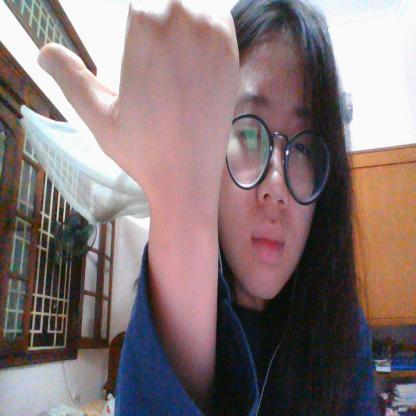right: (40, 1, 242, 187)
